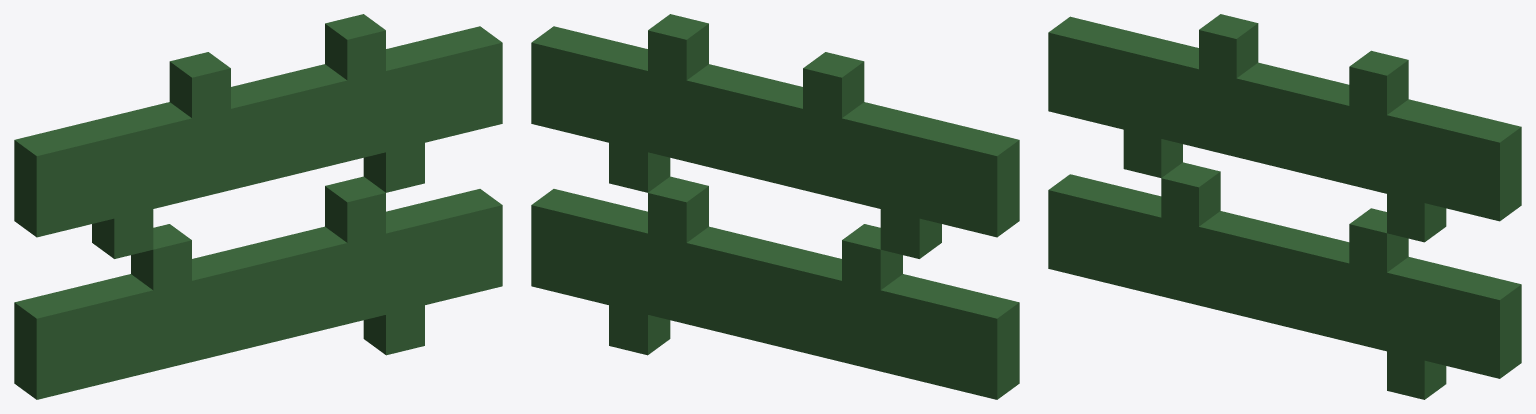
The model's file is MazeGreenLeftLeg-2.vox.obj.
3 views of the same model, side by side, from view 1: azimuth 30°, elevation 25°; view 2: azimuth 150°, elevation 25°; view 3: azimuth 330°, elevation 25° (orthographic). The views are drawn at different scales.
Bounding box in the file's own units: 1.2 × 0.8 × 0.1.
1 material, 1 textured.
